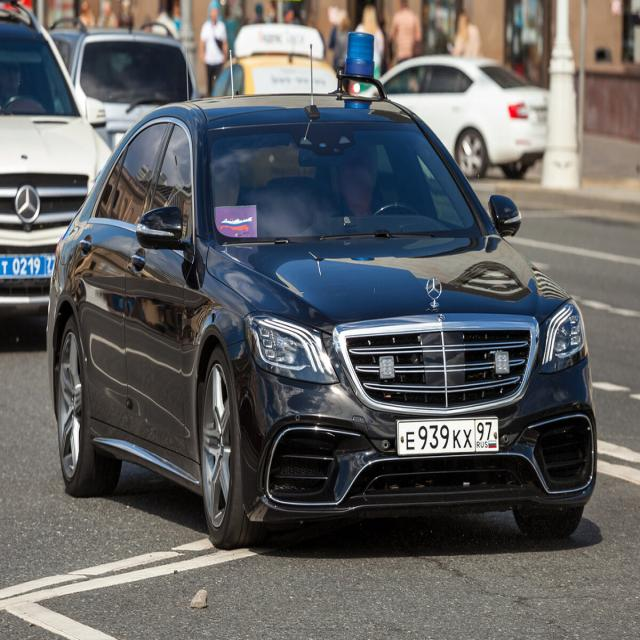number-plates: (394, 416, 500, 461), (0, 251, 64, 284)
